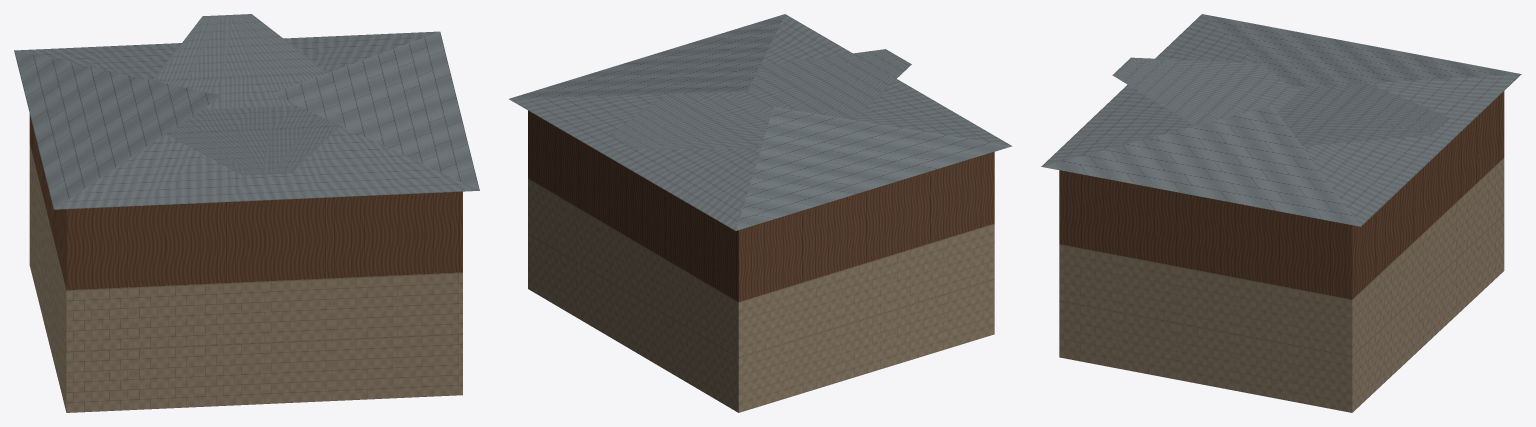
The model's file is bld_c-10_3_656.gltf.
The picture shows the model from 3 angles, left to right: view 1: azimuth 30°, elevation 25°; view 2: azimuth 150°, elevation 25°; view 3: azimuth 270°, elevation 25°; orthographic projection. The views are drawn at different scales.
Visible parts, largest first — view 1: bld_c-10_3_656; view 2: bld_c-10_3_656; view 3: bld_c-10_3_656.
Part boxes in pixels (box(x1,y1,x2,y2)): bld_c-10_3_656: box(14, 14, 479, 412); bld_c-10_3_656: box(509, 14, 1011, 412); bld_c-10_3_656: box(1041, 14, 1521, 412).
Bounding box in the file's own units: 19.09 × 9.1 × 18.21.
Materials: 3 (3 with a texture image).
